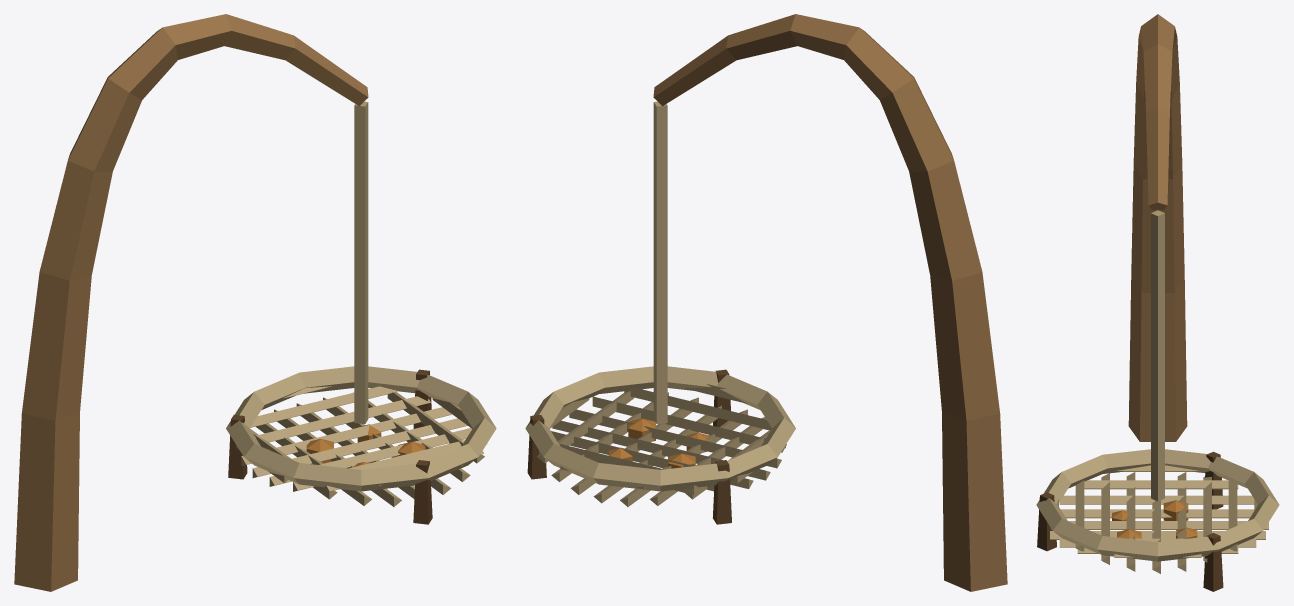
File: Hunter_Net_Trap.glb
The picture shows the model from 3 angles, left to right: view 1: azimuth 30°, elevation 25°; view 2: azimuth 150°, elevation 25°; view 3: azimuth 270°, elevation 25°; orthographic projection. The views are drawn at different scales.
Visible parts, largest first — view 1: Hunter_Net_Trap; view 2: Hunter_Net_Trap; view 3: Hunter_Net_Trap.
Boxes of the visible parts, <box> form: Hunter_Net_Trap: <box>14,14,496,591</box>; Hunter_Net_Trap: <box>525,14,1007,591</box>; Hunter_Net_Trap: <box>1036,14,1279,591</box>.
Bounding box in the file's own units: 1.35 × 1.45 × 0.68.
